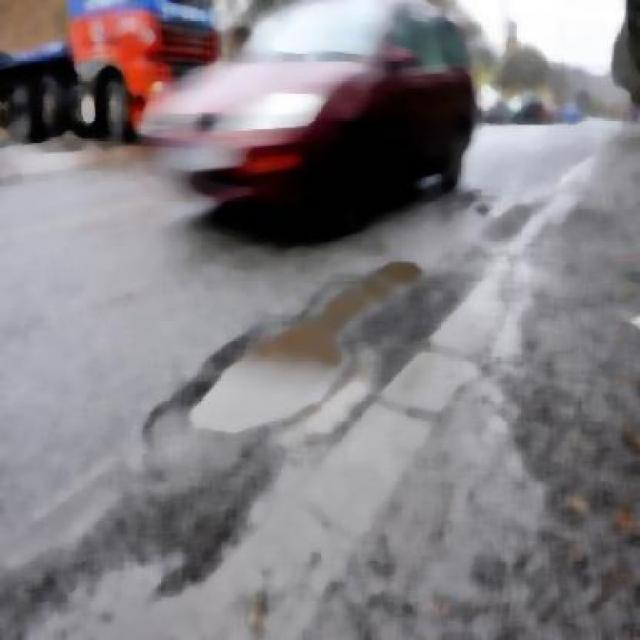Pothole: (164, 257, 416, 448)
